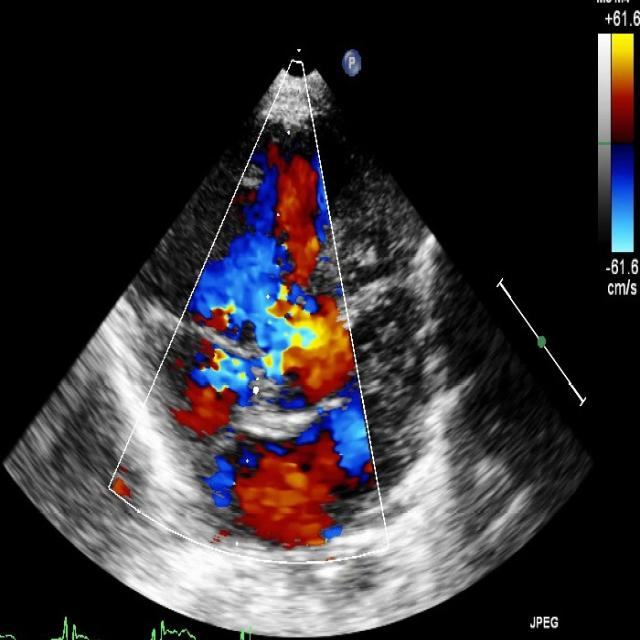VSDType2: (216, 284, 354, 397)
